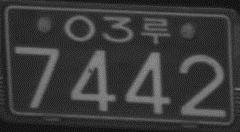0: (63, 13, 95, 42)
2: (178, 53, 226, 118)
3: (101, 15, 133, 43)
4: (125, 50, 171, 115), (69, 49, 116, 112)
7: (13, 45, 59, 108)
루: (140, 16, 170, 45)
